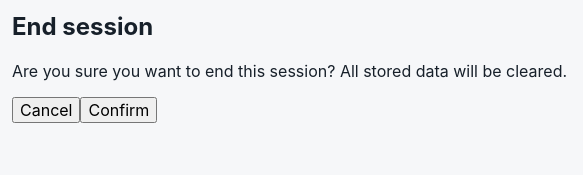
Test: displays an error message when the request fails
Click the button "Confirm" at (119, 110), box [80,97,157,123]
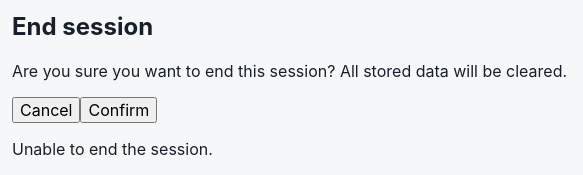
Expected: the message reads "Unable to end the session.", [12,139,213,159]
